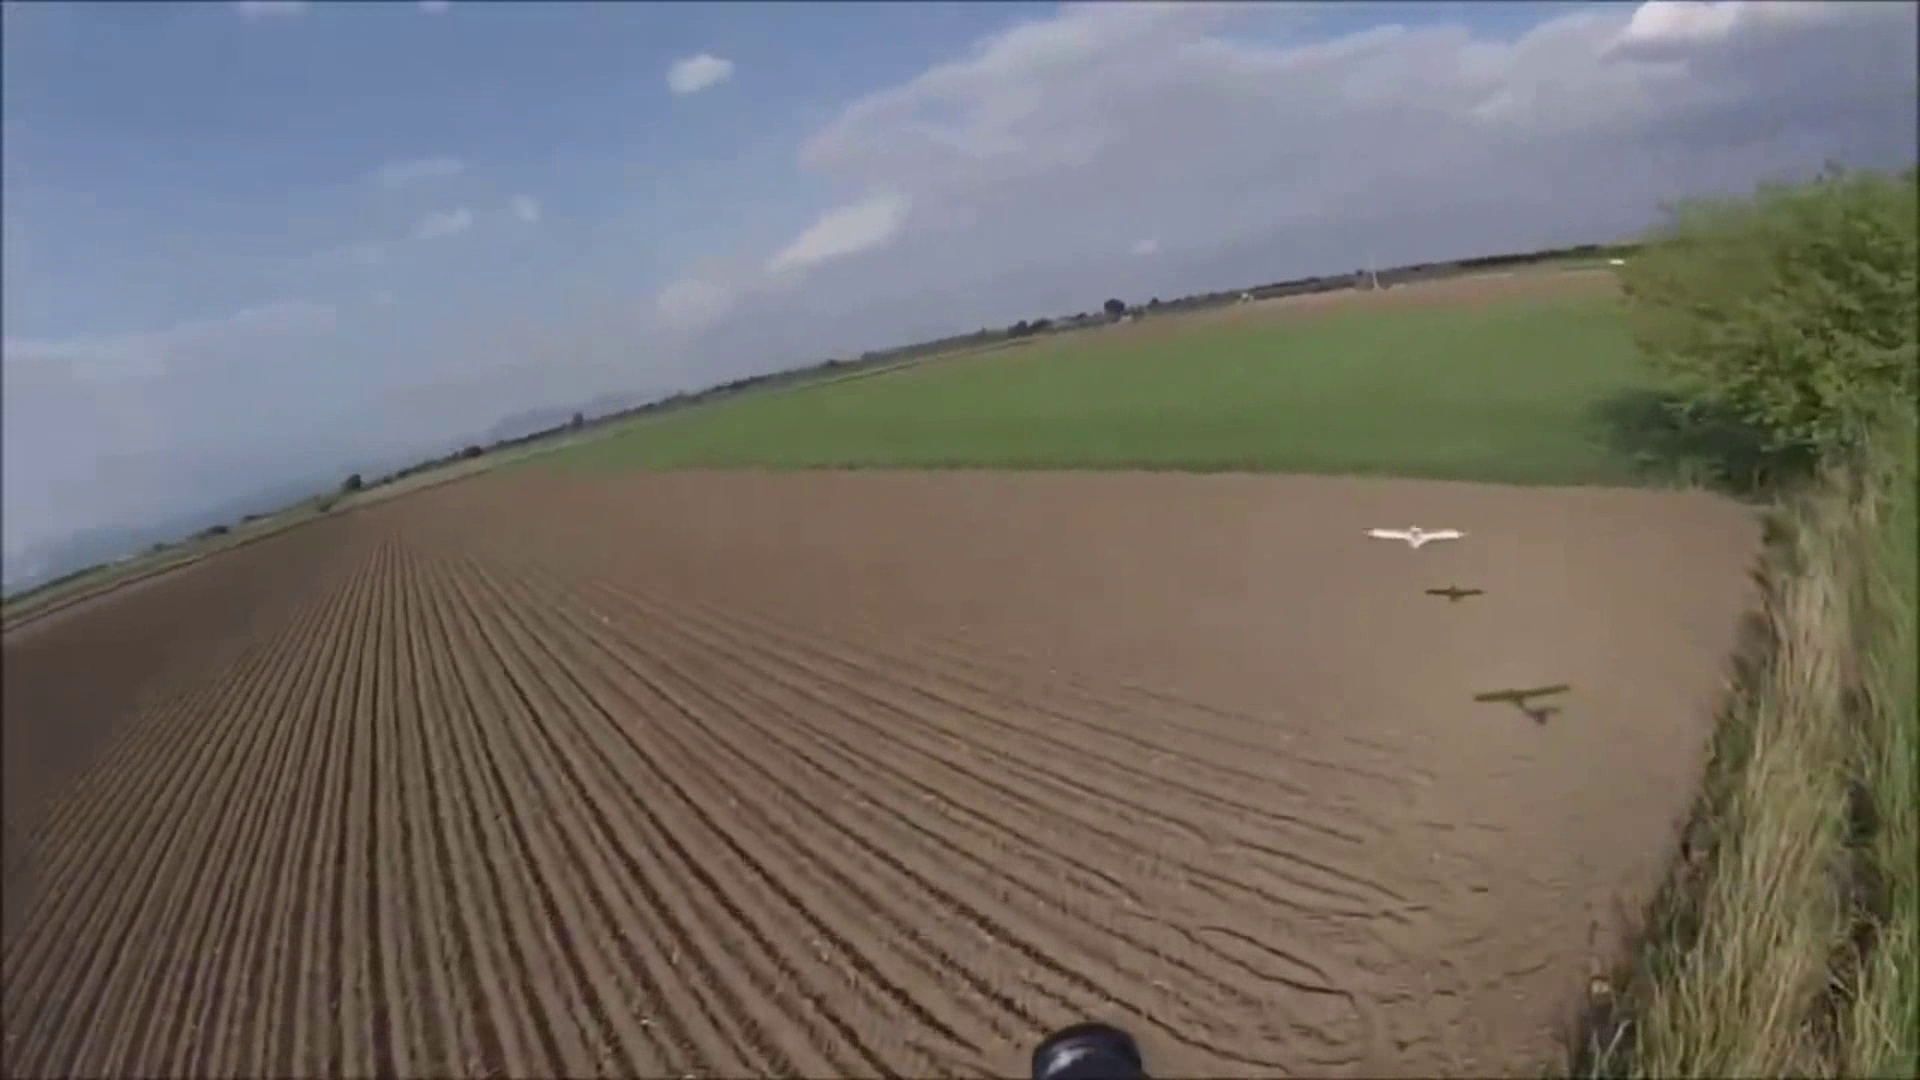airplane: (1472, 682, 1573, 723)
